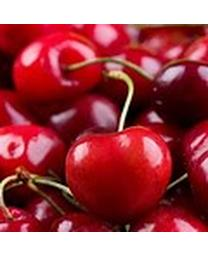cherry: (63, 127, 173, 222), (12, 31, 100, 108), (1, 120, 65, 184), (152, 59, 207, 126)
